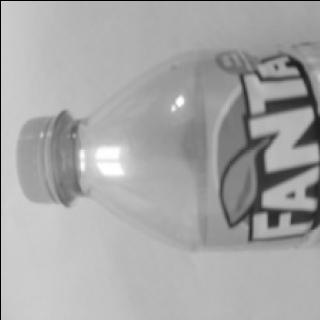plastic_bottles: (9, 48, 320, 251)
